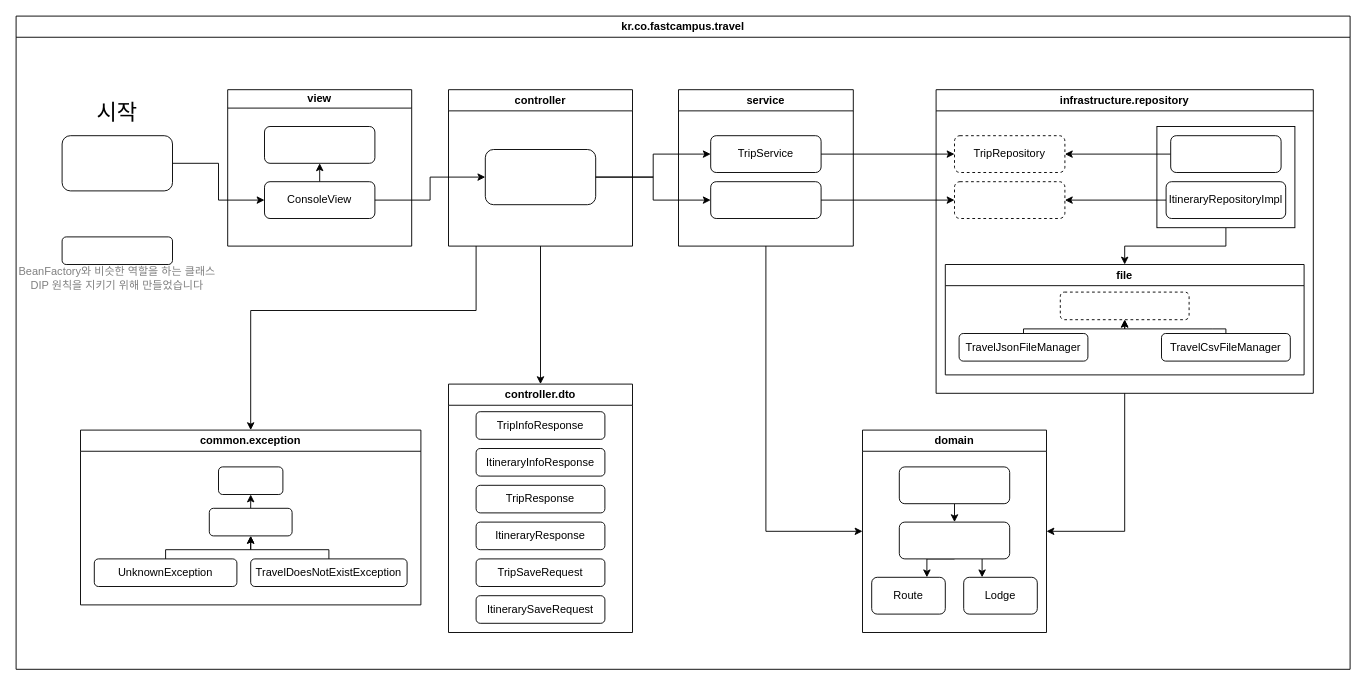
The diagram is 1366 pixels wide and 685 high, and some of its shapes have lost their labels. Here are the shapes that lost their labels. From the top down, the centre of each, then its label:
At (116,163): "TravelApp main(String[] args)".
At (319,144): "InputView".
At (1225,153): "TripRepositoryImpl".
At (540,177): "TravelController".
At (765,199): "ItineraryService".
At (1009,199): "ItineraryRepository".
At (116,250): "AppConfig".
At (1124,305): "FileIoManager".
At (250,480): "ErrorCode".
At (954,485): "Trip".
At (250,521): "BaseException".
At (954,540): "Itinerary".
